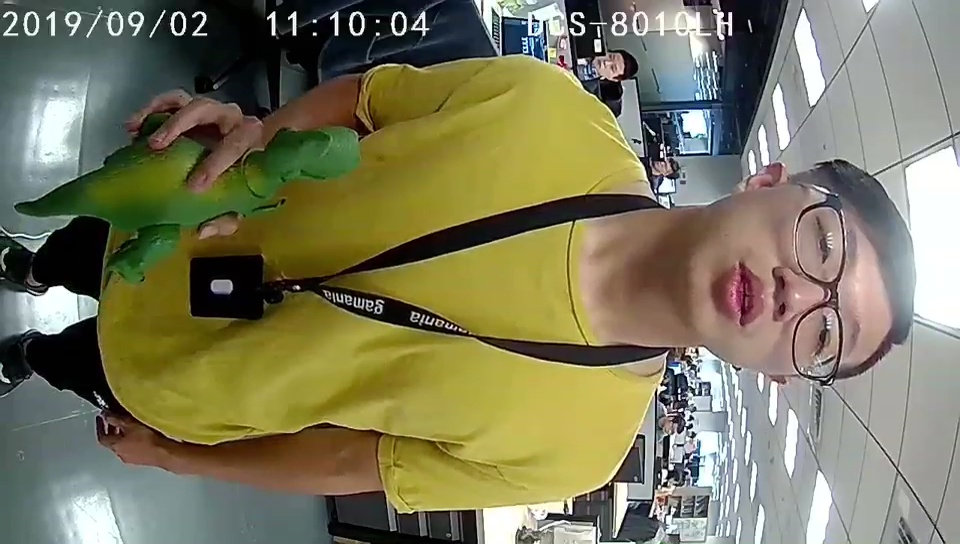rex: (107, 124, 359, 283)
